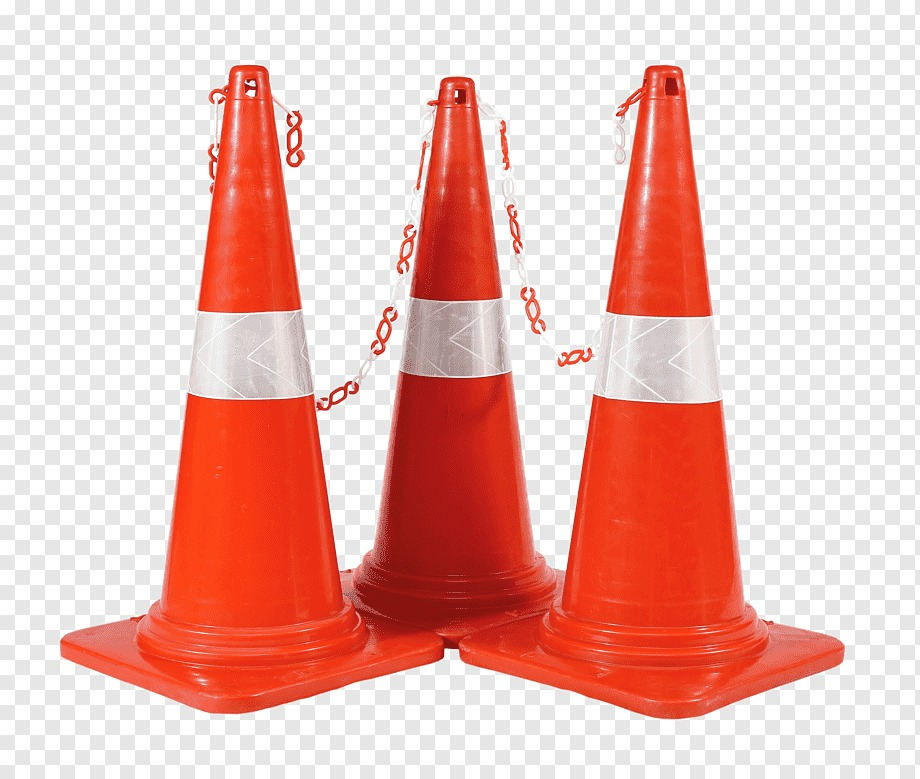cones: (67, 62, 423, 701), (509, 62, 853, 708), (351, 66, 562, 654)
